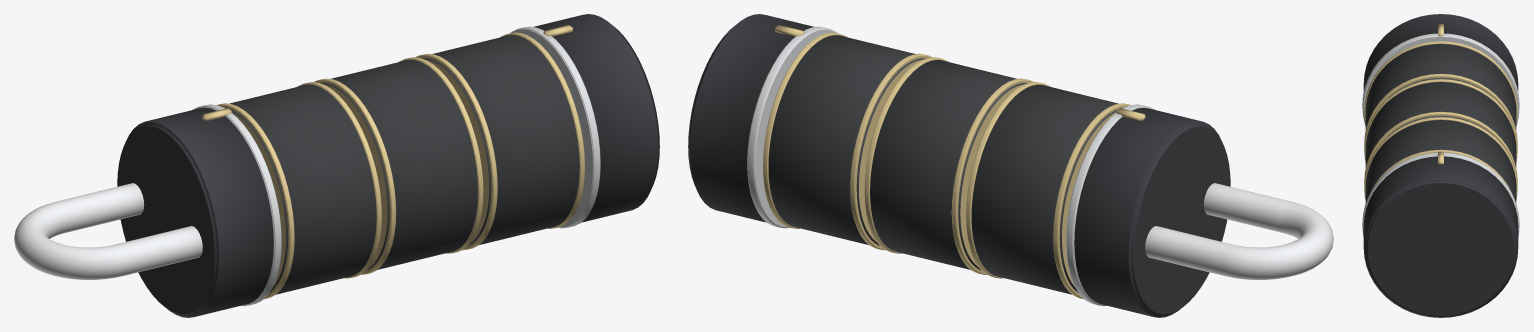
Rendered from combination-lock.glb.
3 views of the same model, side by side, from view 1: azimuth 30°, elevation 25°; view 2: azimuth 150°, elevation 25°; view 3: azimuth 270°, elevation 25° (orthographic). The views are drawn at different scales.
Parts seen in each view (by area): view 1: LeftCollar, TumblerRing2_Drum, TumblerRing1_Drum, TumblerRing0_Drum, RightCap, ChromeShackle, RightCapTrim, TumblerRing1_BrassRim_L, TumblerRing2_BrassRim_L, TumblerRing0_BrassRim_L, LeftCollarTrim, TumblerRing1_BrassRim_R (+2 smaller); view 2: LeftCollar, TumblerRing2_Drum, TumblerRing1_Drum, TumblerRing0_Drum, RightCap, ChromeShackle, RightCapTrim, TumblerRing1_BrassRim_L, TumblerRing2_BrassRim_L, TumblerRing0_BrassRim_L, LeftCollarTrim, TumblerRing1_BrassRim_R (+2 smaller); view 3: RightCap, TumblerRing0_Drum, TumblerRing1_Drum, TumblerRing2_Drum, LeftCollar, LeftCollarTrim, RightCapTrim, TumblerRing1_BrassRim_R, TumblerRing0_BrassRim_R, TumblerRing0_BrassRim_L, TumblerRing1_BrassRim_L, TumblerRing2_BrassRim_L (+1 smaller).
Part boxes in pixels (box(x1,y1,x2,y2)): LeftCollar: box(117, 108, 273, 317); TumblerRing2_Drum: box(422, 35, 579, 245); TumblerRing1_Drum: box(320, 60, 477, 270); TumblerRing0_Drum: box(224, 84, 376, 294); RightCap: box(534, 14, 659, 222); ChromeShackle: box(14, 183, 202, 279); RightCapTrim: box(510, 26, 600, 228); TumblerRing1_BrassRim_L: box(314, 78, 396, 274); TumblerRing2_BrassRim_L: box(415, 53, 497, 250); TumblerRing0_BrassRim_L: box(217, 103, 294, 299); LeftCollarTrim: box(193, 104, 281, 306); TumblerRing1_BrassRim_R: box(398, 57, 483, 253); LeftCollar: box(1074, 108, 1230, 317); TumblerRing2_Drum: box(768, 35, 925, 245); TumblerRing1_Drum: box(870, 60, 1027, 270); TumblerRing0_Drum: box(971, 84, 1123, 294); RightCap: box(688, 14, 813, 222); ChromeShackle: box(1145, 183, 1333, 279); RightCapTrim: box(747, 26, 837, 228); TumblerRing1_BrassRim_L: box(951, 78, 1033, 274); TumblerRing2_BrassRim_L: box(850, 53, 932, 250); TumblerRing0_BrassRim_L: box(1053, 103, 1130, 299); LeftCollarTrim: box(1066, 104, 1154, 306); TumblerRing1_BrassRim_R: box(864, 57, 949, 253); RightCap: box(1363, 156, 1518, 317); TumblerRing0_Drum: box(1365, 44, 1516, 129); TumblerRing1_Drum: box(1365, 82, 1516, 167); TumblerRing2_Drum: box(1365, 120, 1516, 202); LeftCollar: box(1363, 14, 1518, 91); LeftCollarTrim: box(1362, 33, 1519, 125); RightCapTrim: box(1362, 153, 1519, 236); TumblerRing1_BrassRim_R: box(1364, 111, 1517, 182); TumblerRing0_BrassRim_R: box(1364, 74, 1517, 144); TumblerRing0_BrassRim_L: box(1364, 41, 1517, 123); TumblerRing1_BrassRim_L: box(1364, 79, 1517, 161); TumblerRing2_BrassRim_L: box(1364, 117, 1517, 199).
Size of the model in its own units: 5.79 by 1.78 by 1.75.
